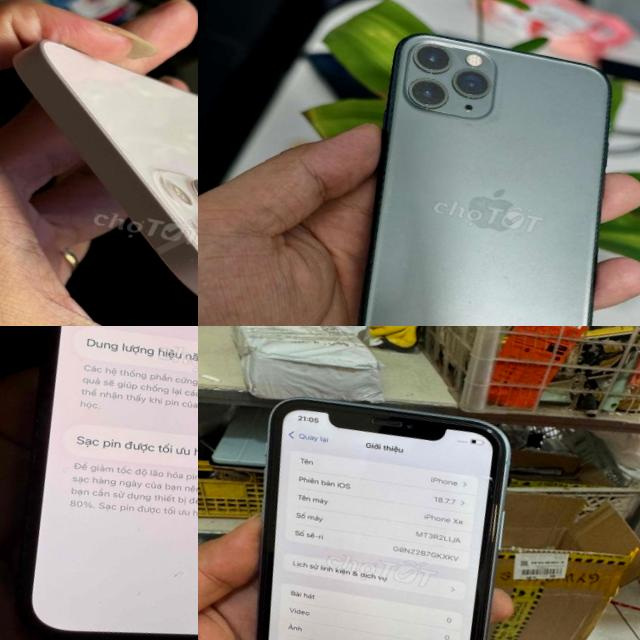gen_11: (325, 19, 640, 326)
gen_12_13: (0, 326, 198, 640), (0, 25, 198, 326)
gen_x_xs: (198, 371, 559, 640)
